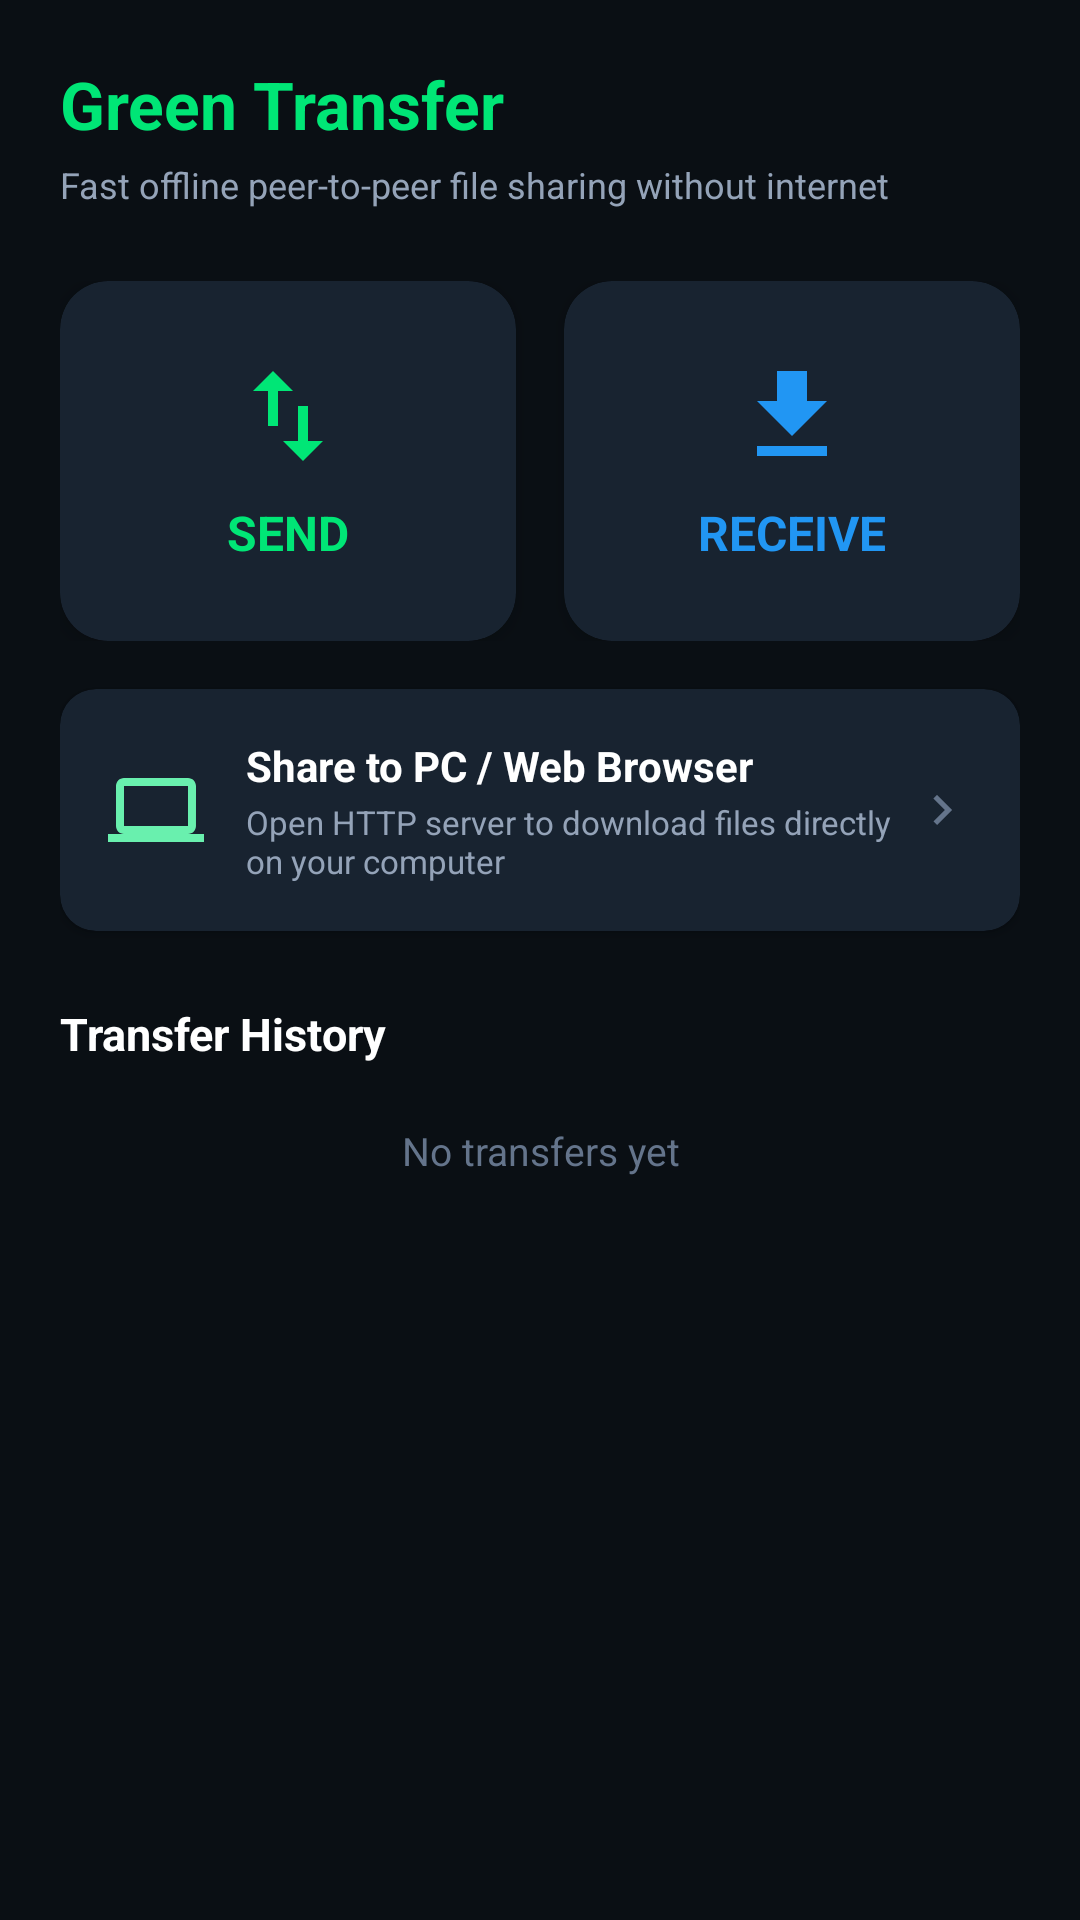

Locate icon controls on the screen. Image size 1080*1920, boxes as (x1, y1, x2, y2).
chevron right: (933, 795, 952, 825)
transfer: (253, 371, 323, 461)
